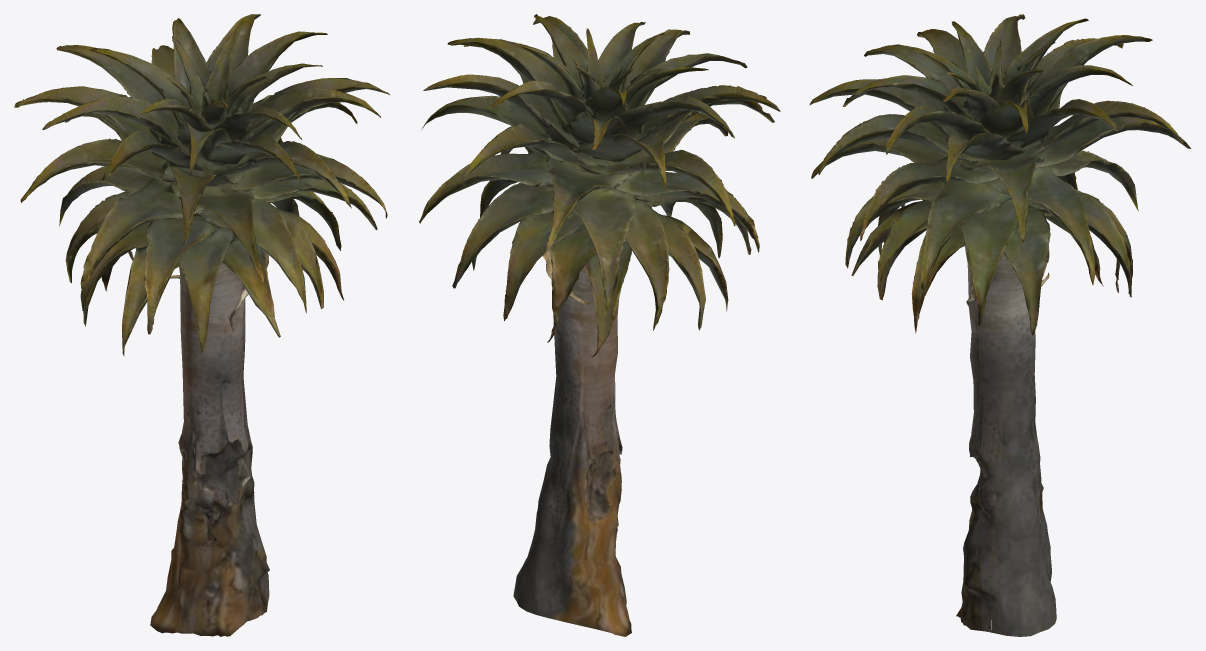
Rendered from quiver_tree_02.glb.
3 views of the same model, side by side, from view 1: azimuth 30°, elevation 25°; view 2: azimuth 150°, elevation 25°; view 3: azimuth 270°, elevation 25° (orthographic).
Visible parts, largest first — view 1: quiver_tree_02; view 2: quiver_tree_02; view 3: quiver_tree_02.
Boxes of the visible parts, x1,y1,x2,y2 form: quiver_tree_02: (14, 14, 389, 636); quiver_tree_02: (419, 14, 780, 636); quiver_tree_02: (809, 14, 1191, 636).
Size of the model in its own units: 0.8705 by 1.47 by 0.88.
1 material, 1 textured.
